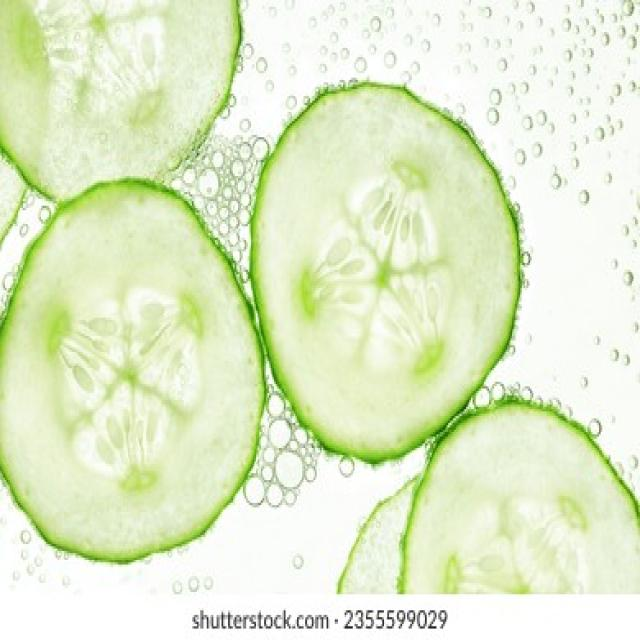Pickle: (251, 84, 520, 461), (0, 181, 264, 560), (0, 0, 240, 199), (404, 402, 640, 593)
